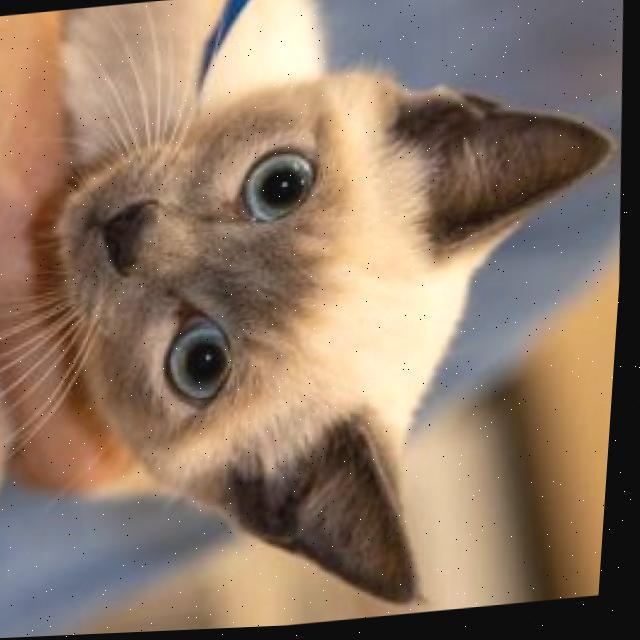Siamese: (11, 0, 640, 638)
